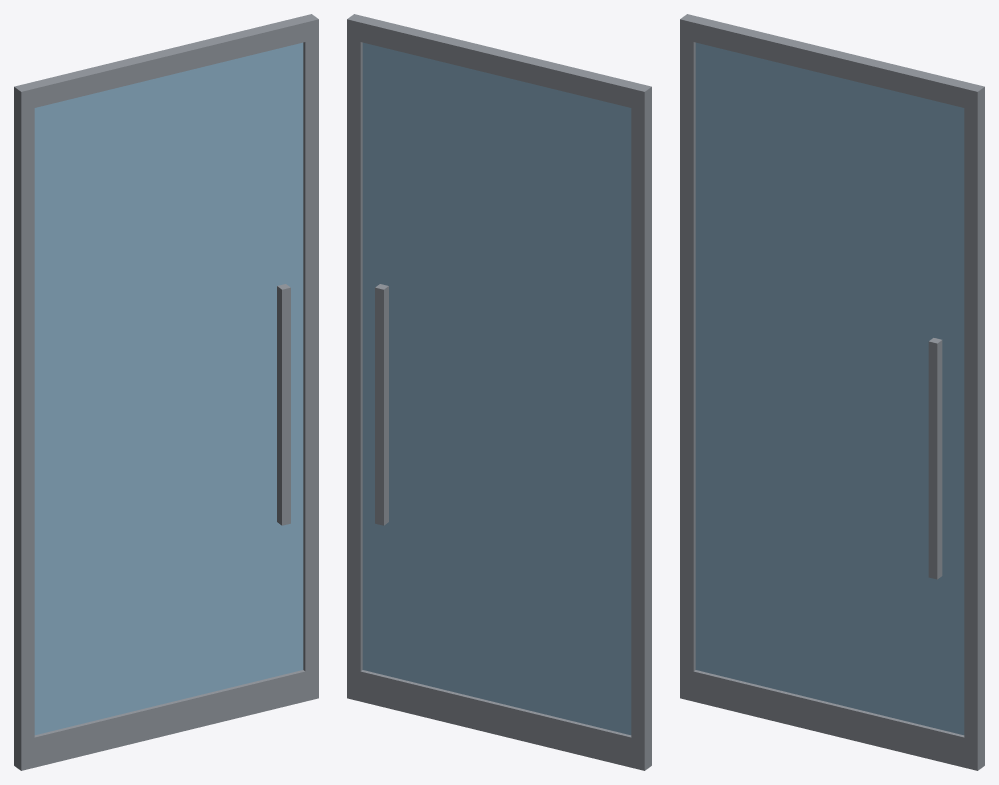
Rendered from SM_Door_glass_120x260.fbx.
The picture shows the model from 3 angles, left to right: view 1: azimuth 30°, elevation 25°; view 2: azimuth 150°, elevation 25°; view 3: azimuth 330°, elevation 25°; orthographic projection.
Visible parts, largest first — view 1: SM_Door_glass_120x260; view 2: SM_Door_glass_120x260; view 3: SM_Door_glass_120x260.
Boxes of the visible parts, x1,y1,x2,y2 form: SM_Door_glass_120x260: (14, 14, 318, 770); SM_Door_glass_120x260: (347, 14, 651, 770); SM_Door_glass_120x260: (680, 14, 984, 770).
Size of the model in its own units: 1.19 by 2.59 by 0.135.
